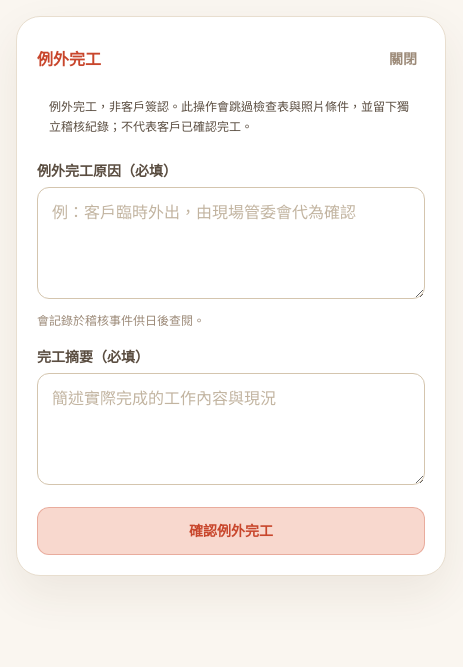
it: ForceCompleteSheet › requires a completion summary before submitting
Type "客戶不在場" into the text box with placeholder "例：客戶臨時外出，由現場管委會代為確認" at [231, 243], box 37,187 -> 425,299
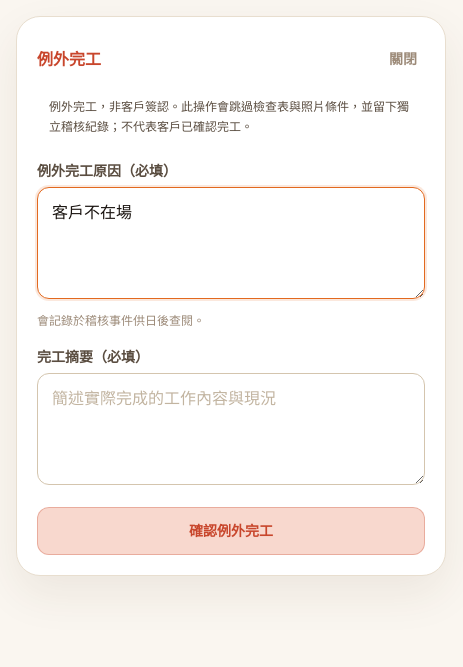
Click the button "確認例外完工" at [231, 531], box 37,507 -> 425,555
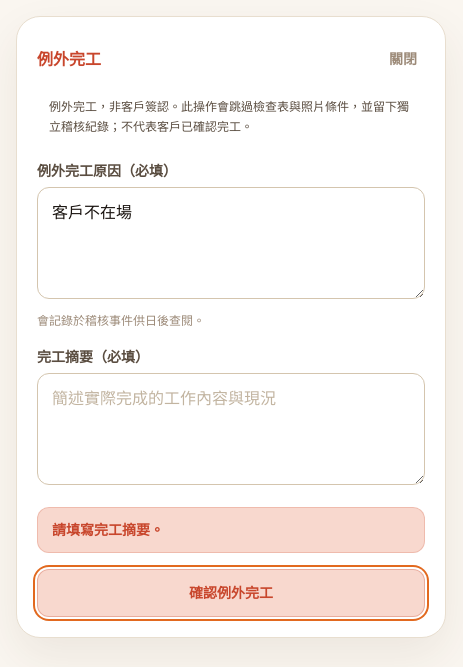
Check: the text "請填寫完工摘要。" is shown, box 37,507 -> 425,553
